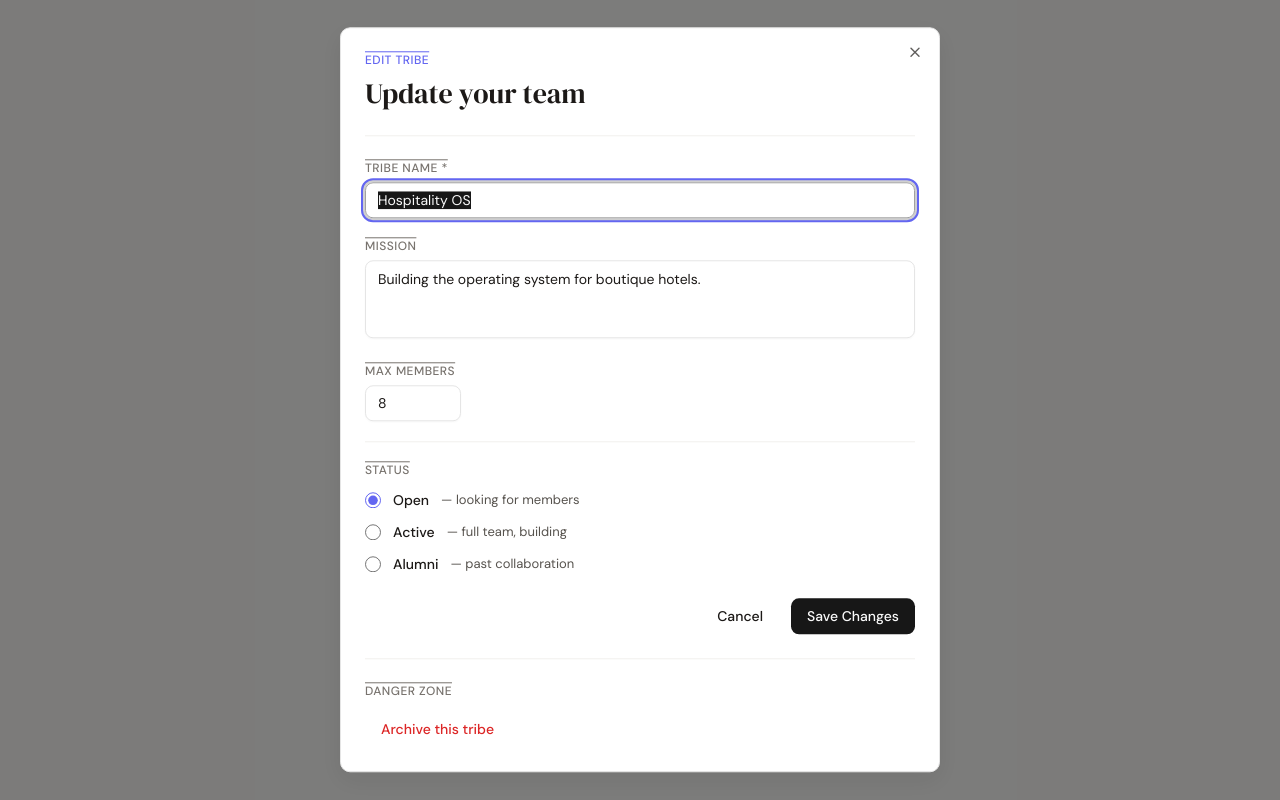
EditTribeModal › shows error message when mutation fails
This screenshot has width=1280, height=800.
Click the button "Save Changes" at (853, 617), box [791,599,915,635]
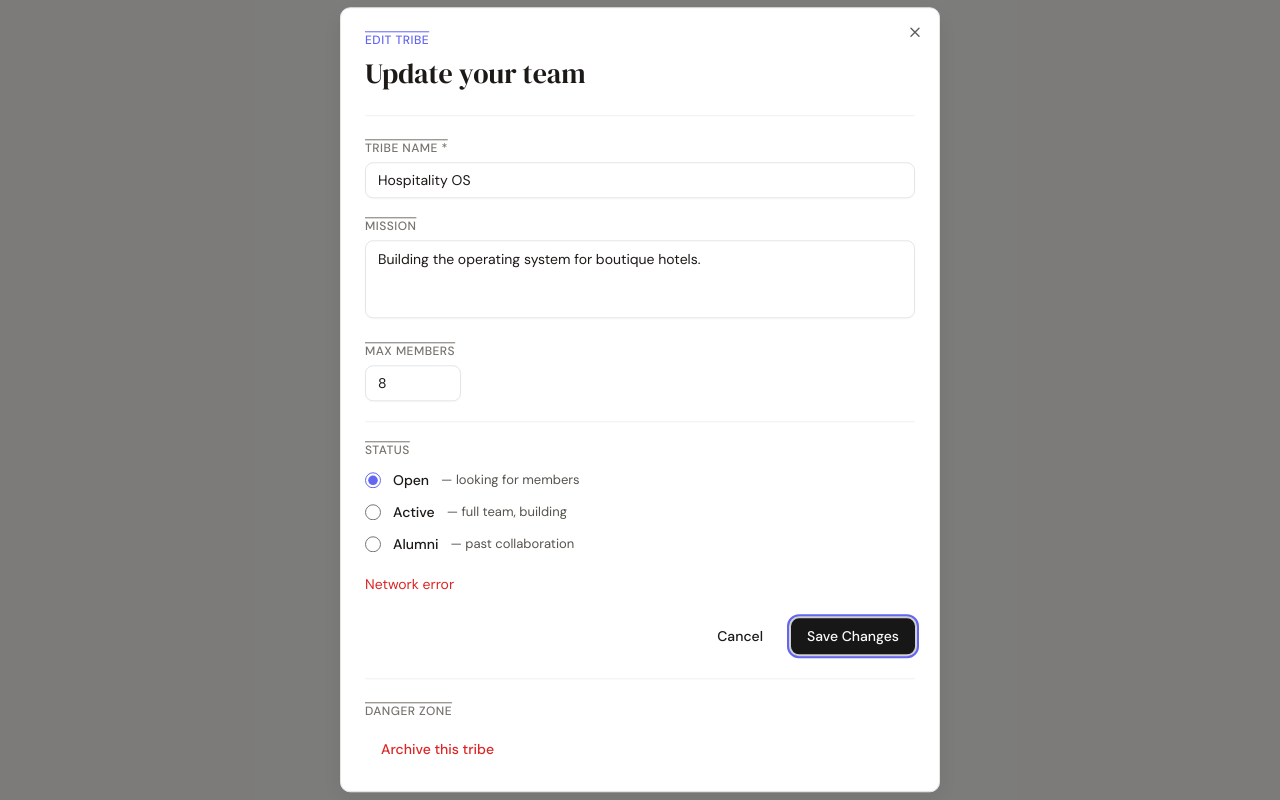
Expected: the text "Network error" is shown, [365,576,454,594]
